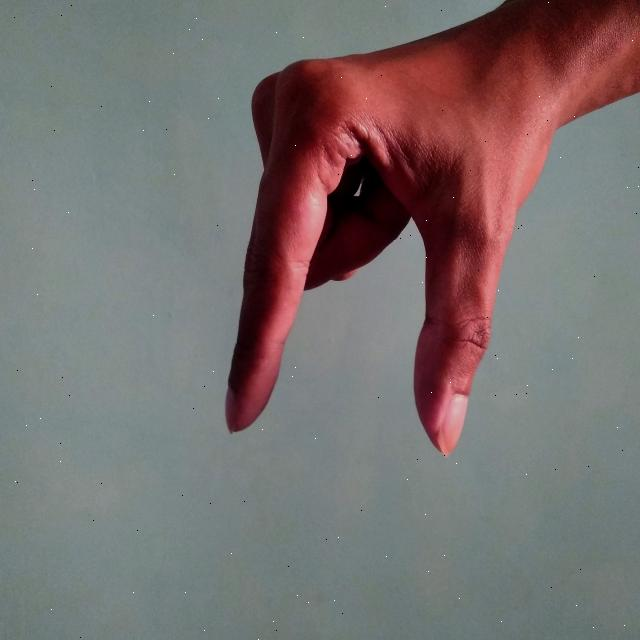Q: (214, 0, 639, 470)
